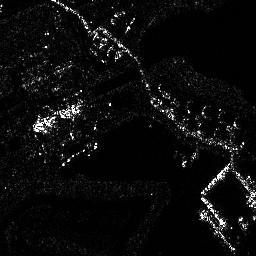ship: (196, 205, 236, 254), (59, 138, 98, 167), (180, 150, 201, 167)
